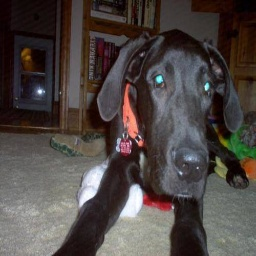dog: (58, 27, 247, 256)
